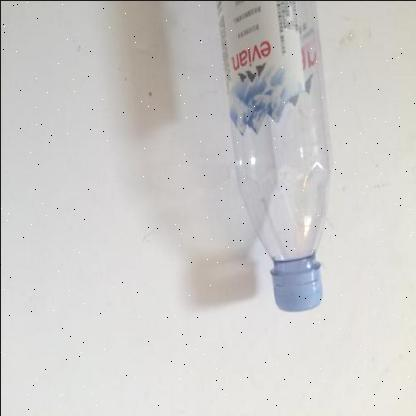Plastic Bottle: (216, 0, 329, 311)
